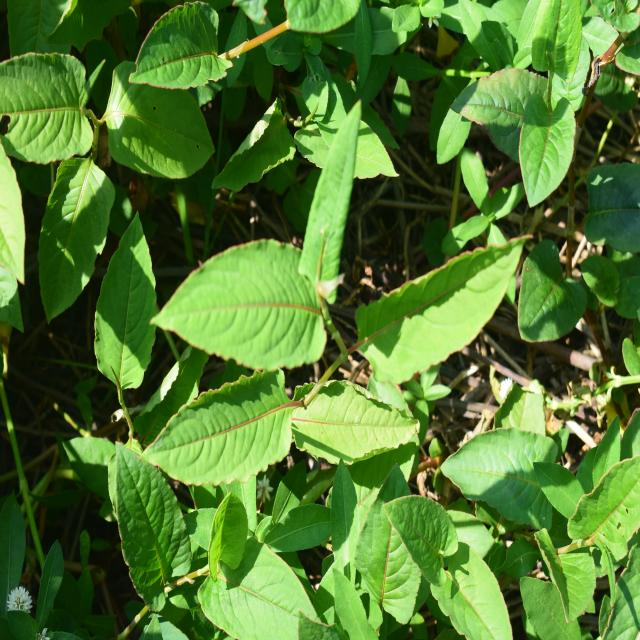Chinese_knotweed: (141, 174, 514, 492), (76, 396, 330, 638), (0, 5, 187, 293)
